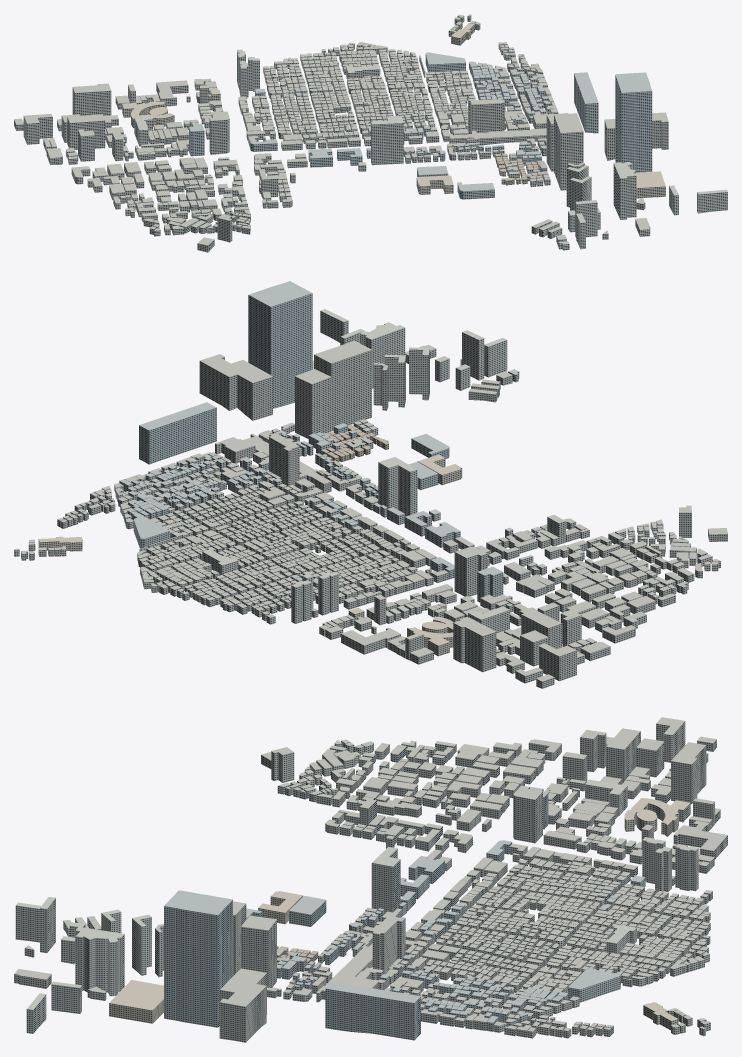
The model's file is city_4_0.glb.
3 renders of one model, top to bottom at view 1: azimuth 30°, elevation 25°; view 2: azimuth 150°, elevation 25°; view 3: azimuth 270°, elevation 25°, orthographic. The views are drawn at different scales.
Size of the model in its own units: 1056 by 190 by 1040.
5 materials, 5 textured.
